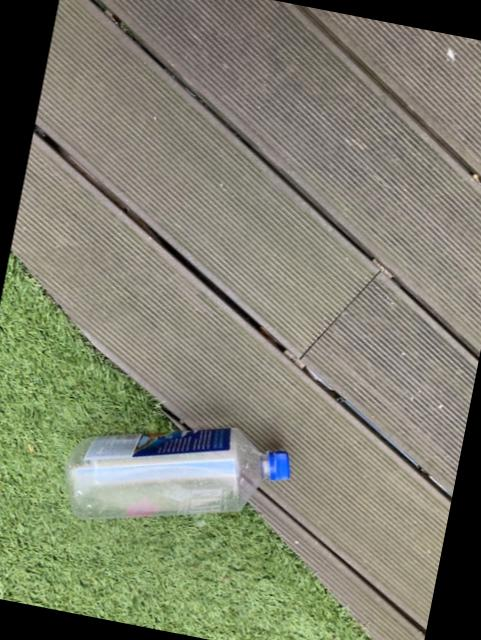plastic: (66, 427, 290, 517)
